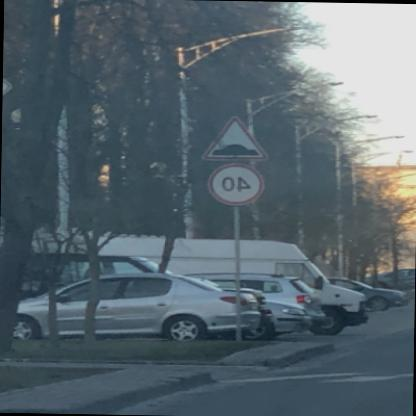speedlimit: (211, 162, 266, 204)
